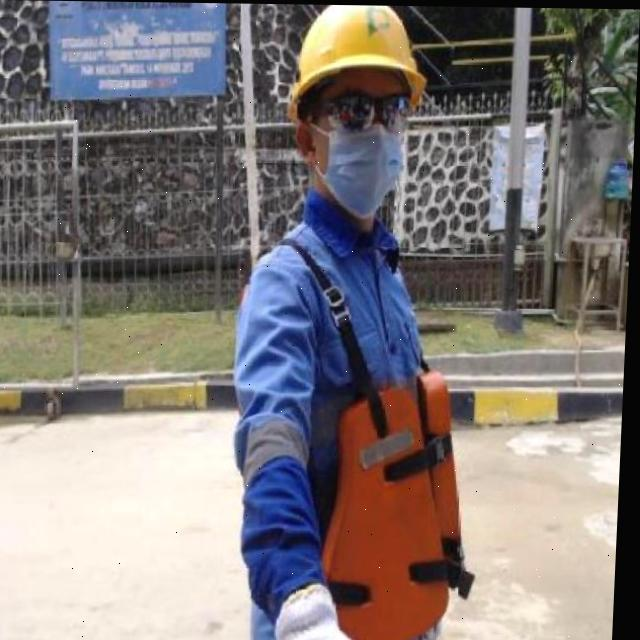Gloves: (279, 581, 368, 640)
Helmet: (288, 3, 430, 124)
Safety-Vest: (259, 222, 486, 640)
